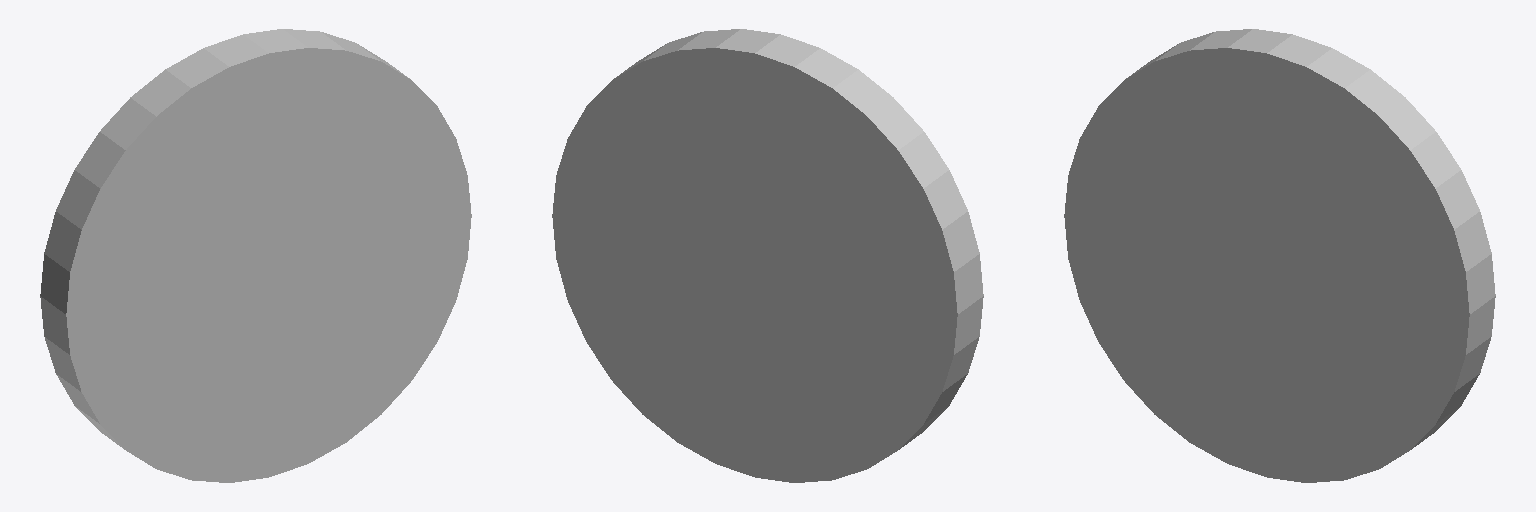
The model's file is asdfsad.obj.
3 renders of one model, left to right at view 1: azimuth 30°, elevation 25°; view 2: azimuth 150°, elevation 25°; view 3: azimuth 330°, elevation 25°, orthographic.
Parts seen in each view (by area): view 1: Cylinder; view 2: Cylinder; view 3: Cylinder.
Boxes of the visible parts, x1=… form: Cylinder: x1=40, y1=29, x2=471, y2=482; Cylinder: x1=552, y1=29, x2=983, y2=482; Cylinder: x1=1064, y1=29, x2=1495, y2=482.
Bounding box in the file's own units: 2 × 2 × 0.2222.